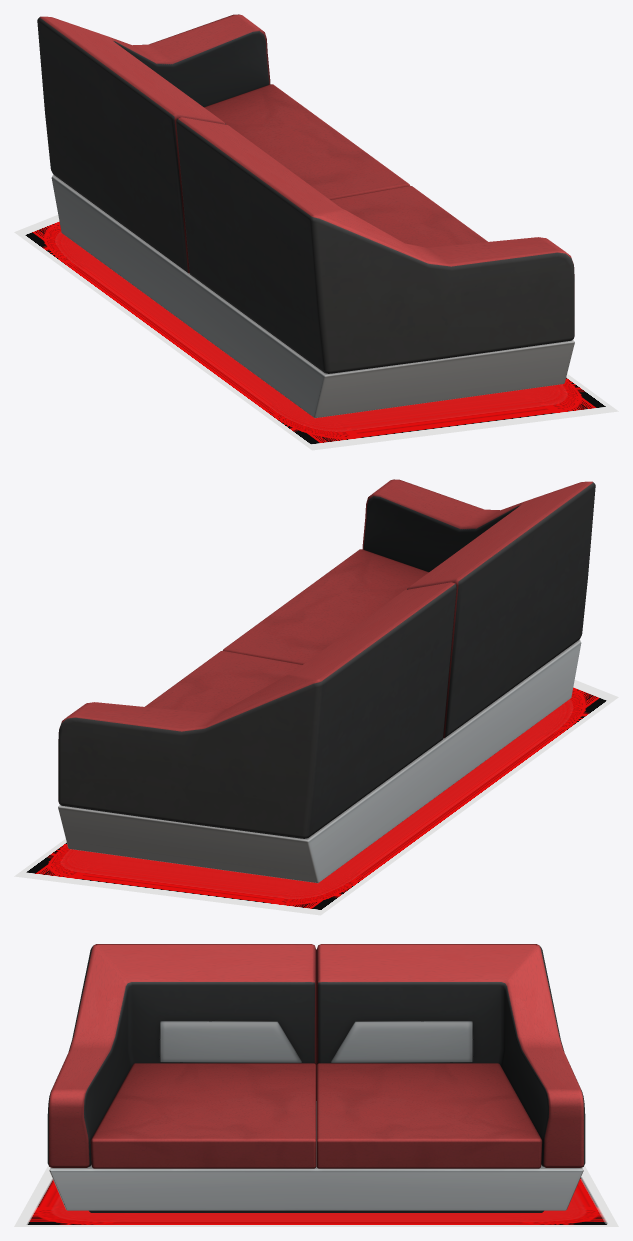
File: Couch.fbx
The picture shows the model from 3 angles, top to bottom: view 1: azimuth 30°, elevation 25°; view 2: azimuth 150°, elevation 25°; view 3: azimuth 270°, elevation 25°; orthographic projection. The views are drawn at different scales.
Parts seen in each view (by area): view 1: LobbyCouch, NeonCouchPlane; view 2: LobbyCouch, NeonCouchPlane; view 3: LobbyCouch, NeonCouchPlane.
Boxes of the visible parts, x1,y1,x2,y2 form: LobbyCouch: (37, 14, 574, 418); NeonCouchPlane: (14, 215, 618, 450); LobbyCouch: (58, 479, 595, 883); NeonCouchPlane: (14, 680, 618, 915); LobbyCouch: (47, 944, 585, 1212); NeonCouchPlane: (14, 1165, 618, 1226).
Size of the model in its own units: 14 by 11.01 by 33.37.
